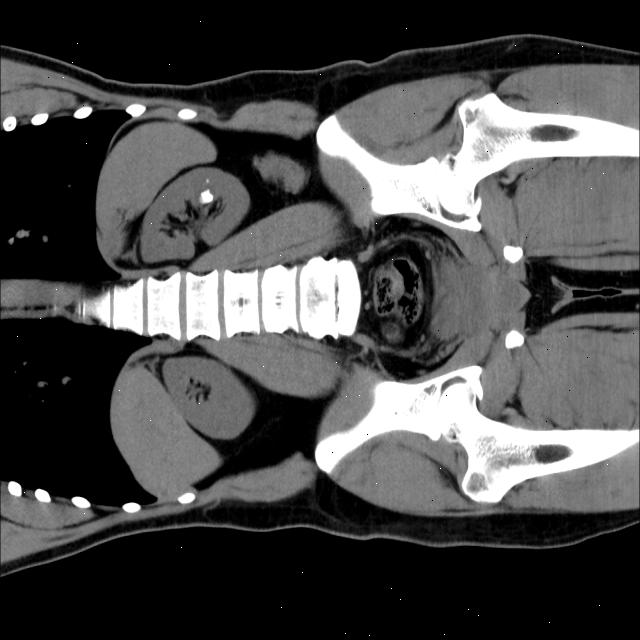kidneystone: (200, 188, 214, 203)
